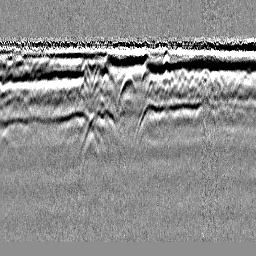cavity: (116, 71, 140, 110)
